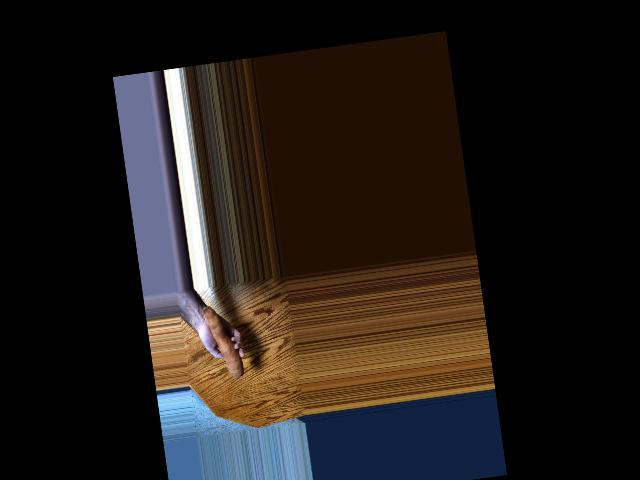sweet_potato: (208, 310, 250, 392)
